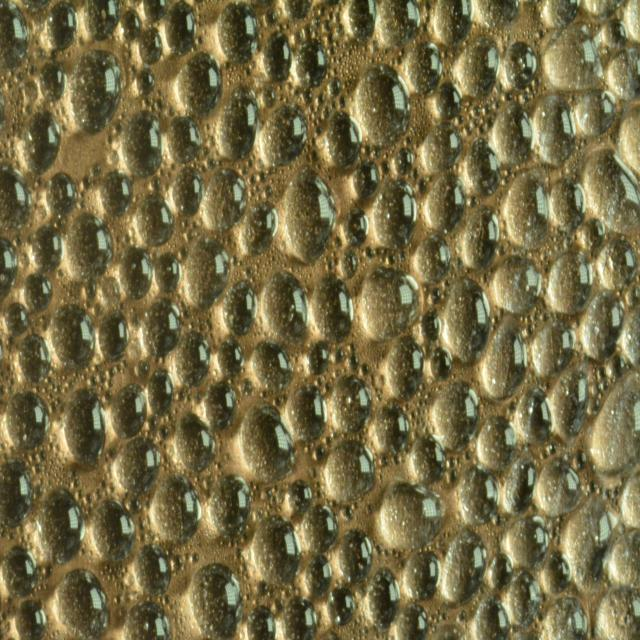dr: (590, 374, 640, 484), (579, 141, 638, 234), (284, 164, 336, 262), (378, 476, 446, 548), (67, 44, 122, 133), (352, 63, 408, 148), (47, 568, 110, 640), (358, 264, 416, 341), (186, 562, 243, 640), (238, 402, 293, 480), (544, 26, 606, 92), (63, 383, 109, 470), (565, 498, 611, 585), (32, 487, 85, 561), (442, 277, 489, 360), (258, 266, 310, 339), (64, 209, 114, 284), (430, 375, 479, 448), (184, 236, 230, 312), (150, 474, 202, 541), (51, 298, 96, 373), (482, 319, 525, 397), (18, 104, 65, 175), (92, 492, 137, 566), (506, 168, 546, 251), (441, 527, 483, 605), (372, 175, 418, 244), (454, 34, 500, 103), (534, 95, 576, 169), (258, 102, 308, 164), (324, 440, 374, 500), (4, 388, 48, 456), (178, 48, 222, 116), (252, 517, 298, 582), (546, 364, 584, 442), (546, 248, 590, 315), (314, 271, 354, 344), (204, 168, 246, 235), (118, 114, 162, 177), (210, 474, 252, 540), (214, 88, 256, 154), (216, 0, 259, 64), (492, 255, 538, 314), (459, 207, 500, 272), (385, 340, 425, 406), (592, 586, 640, 640), (535, 460, 582, 514), (505, 518, 550, 574), (330, 370, 366, 439), (583, 290, 618, 360), (598, 236, 638, 296), (491, 103, 531, 163), (132, 538, 172, 597), (0, 460, 32, 533), (139, 300, 182, 354), (457, 463, 495, 524), (0, 160, 32, 232), (364, 567, 400, 631), (421, 121, 462, 177), (288, 381, 326, 441), (175, 326, 211, 388), (0, 543, 39, 600), (572, 91, 619, 138), (12, 331, 50, 389), (118, 434, 158, 489), (372, 402, 410, 459), (408, 433, 445, 491), (0, 0, 30, 71), (477, 410, 513, 469), (175, 418, 216, 469), (162, 0, 200, 55), (545, 172, 581, 230), (461, 140, 497, 198), (125, 595, 171, 640), (374, 0, 420, 45), (423, 178, 462, 231), (542, 592, 585, 640), (96, 303, 128, 366), (280, 588, 319, 639), (402, 548, 438, 602), (408, 44, 444, 98), (115, 247, 152, 299), (226, 274, 257, 336), (138, 192, 174, 245), (28, 221, 62, 277), (504, 34, 538, 90), (251, 341, 289, 391), (164, 116, 204, 163), (515, 388, 549, 443), (324, 108, 358, 163), (338, 530, 372, 584), (606, 46, 640, 100), (260, 30, 292, 86), (111, 382, 144, 436), (303, 503, 339, 551), (169, 165, 202, 217), (245, 199, 276, 254), (293, 34, 325, 86), (542, 544, 572, 599), (9, 595, 45, 640), (42, 8, 80, 50), (417, 232, 448, 282), (44, 171, 78, 216), (511, 568, 538, 624), (435, 2, 471, 44), (341, 0, 376, 42), (153, 248, 181, 299), (475, 597, 508, 640), (203, 380, 233, 426), (146, 367, 175, 414), (24, 271, 52, 319), (302, 551, 330, 598), (509, 460, 536, 508), (247, 603, 281, 640), (2, 304, 29, 348), (101, 169, 131, 208), (86, 1, 118, 36), (38, 64, 66, 103), (391, 606, 427, 636), (432, 79, 458, 120), (217, 340, 243, 380), (286, 471, 310, 514), (329, 586, 356, 624), (343, 207, 367, 247), (488, 554, 513, 590), (140, 28, 163, 67), (306, 340, 330, 377), (120, 10, 142, 43), (429, 348, 450, 379), (417, 308, 438, 336), (135, 66, 153, 96)
